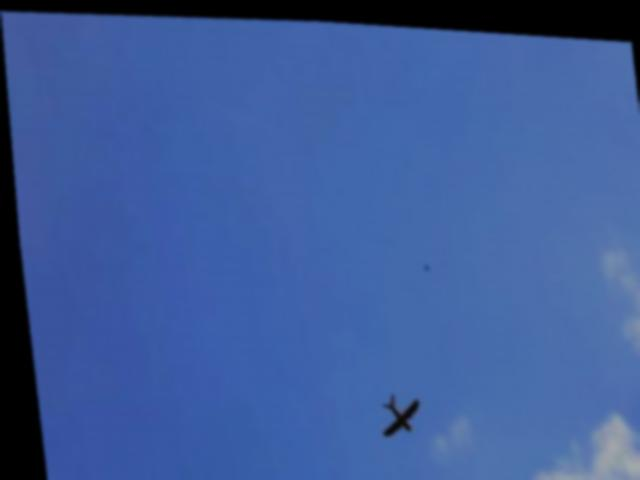uav: (368, 386, 420, 439)
